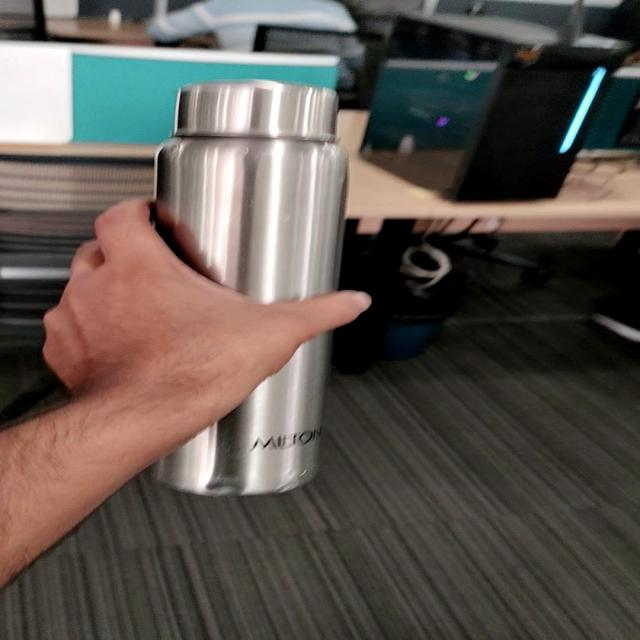bottle: (147, 77, 349, 496)
